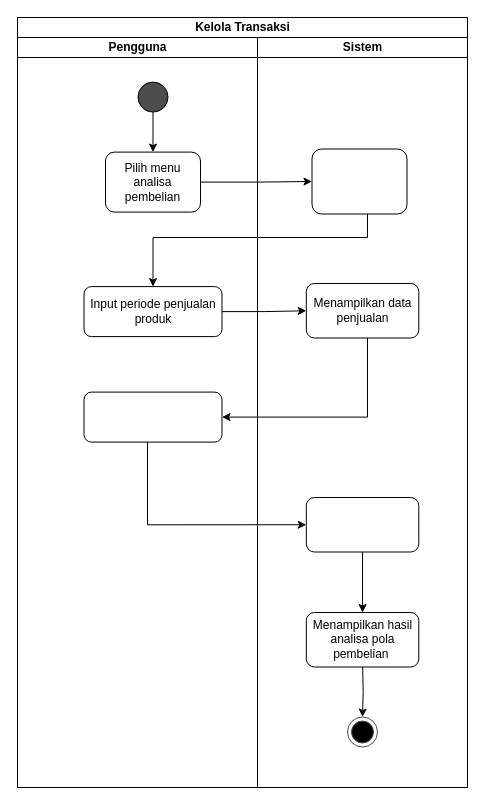
This 485x805 diagram has some shape labels left out. The centre of each missing label's shape, as x and y in pixels:
"Input nilai min support dan min confidence" belongs at (x=152, y=416).
"Menampilkan halaman analisa pembelian" belongs at (x=359, y=181).
"Proses analisa" belongs at (x=362, y=524).
